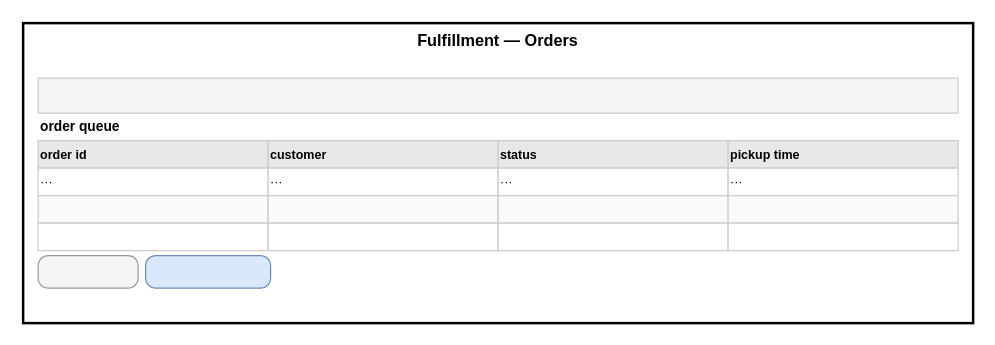
The diagram is 995 pixels wide and 345 high, and some of its shapes have lost their labels. Each missing label, with the centre of its shape:
employee header · store · Fulfillment · Sign out: (x=497, y=95)
mark preparing: (x=207, y=271)
open order: (x=87, y=271)
